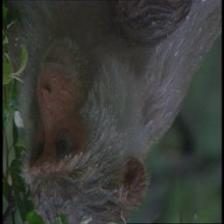monkey: (8, 21, 156, 223)
